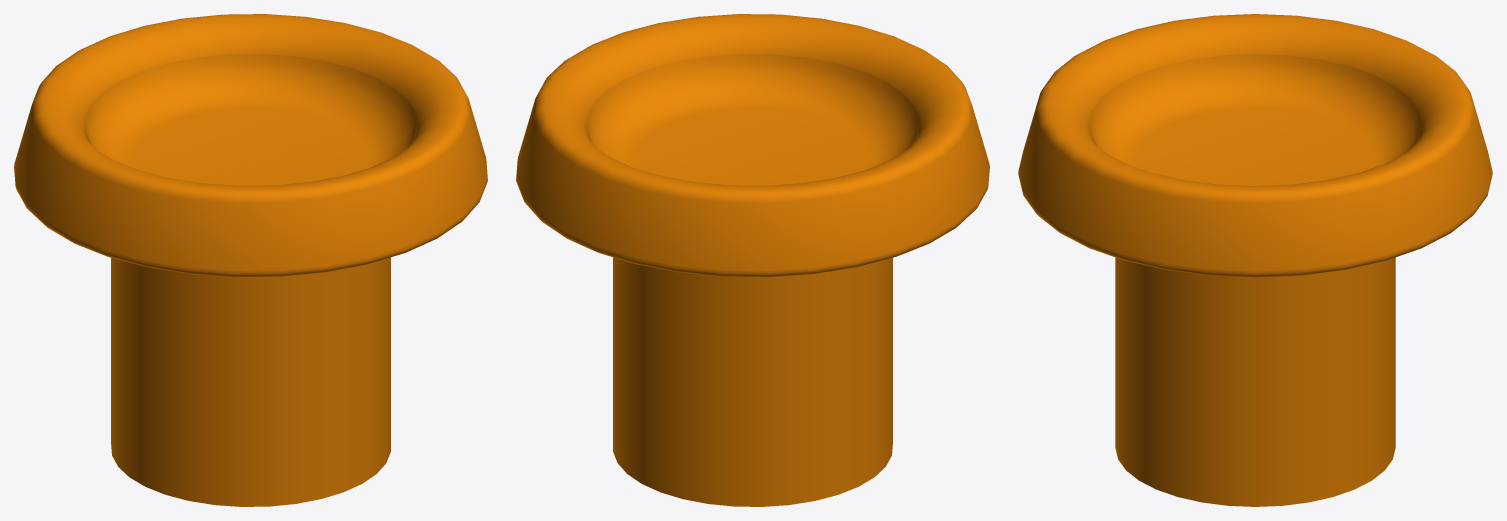
File: hit_pin.glb
The picture shows the model from 3 angles, left to right: view 1: azimuth 30°, elevation 25°; view 2: azimuth 150°, elevation 25°; view 3: azimuth 270°, elevation 25°; orthographic projection.
Visible parts, largest first — view 1: Hit Pin; view 2: Hit Pin; view 3: Hit Pin.
Boxes of the visible parts, x1,y1,x2,y2 form: Hit Pin: (14, 14, 487, 506); Hit Pin: (516, 14, 989, 506); Hit Pin: (1018, 14, 1492, 506).
Bounding box in the file's own units: 0.0497 × 0.0398 × 0.0497.
